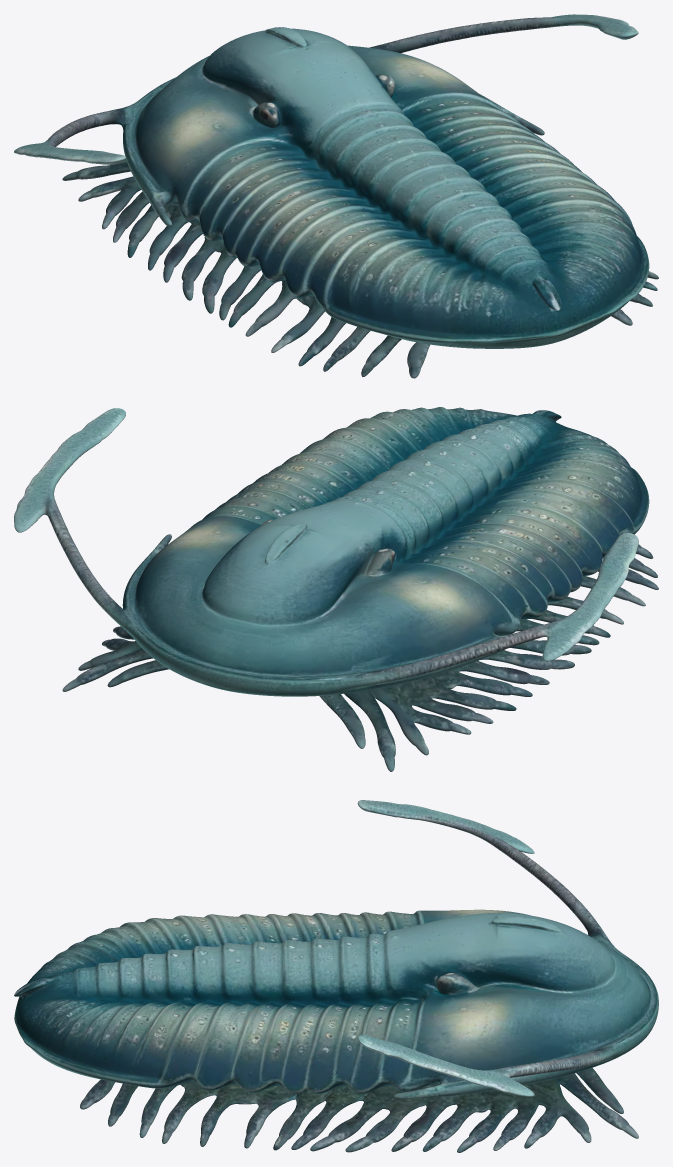
3 renders of one model, top to bottom at view 1: azimuth 30°, elevation 25°; view 2: azimuth 150°, elevation 25°; view 3: azimuth 270°, elevation 25°, orthographic. The views are drawn at different scales.
Parts seen in each view (by area): view 1: node_0; view 2: node_0; view 3: node_0.
Part boxes in pixels (bbox=[...]): node_0: bbox=[14, 14, 658, 378]; node_0: bbox=[14, 407, 658, 771]; node_0: bbox=[14, 800, 658, 1152].
Size of the model in its own units: 0.2871 by 0.0746 by 0.3.
Materials: 1 (1 with a texture image).
